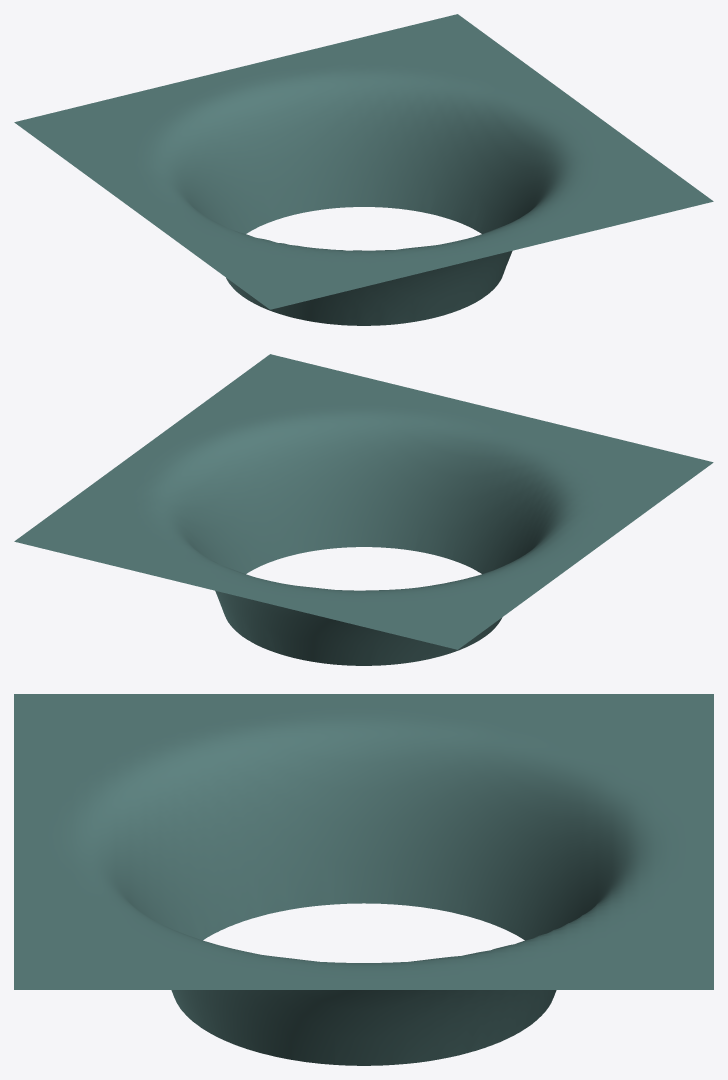
File: Lake V2.fbx
The picture shows the model from 3 angles, top to bottom: view 1: azimuth 30°, elevation 25°; view 2: azimuth 150°, elevation 25°; view 3: azimuth 270°, elevation 25°; orthographic projection. The views are drawn at different scales.
Visible parts, largest first — view 1: Lake V3.001; view 2: Lake V3.001; view 3: Lake V3.001.
Part boxes in pixels (<box>): Lake V3.001: <box>14,14,713,325</box>; Lake V3.001: <box>14,354,713,665</box>; Lake V3.001: <box>14,694,713,1065</box>.
Size of the model in its own units: 20000 by 4500 by 20000.
